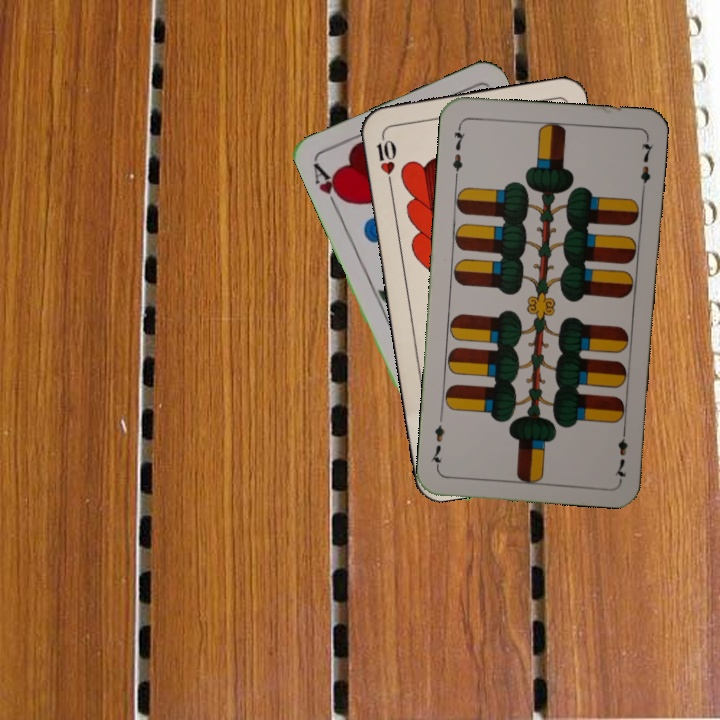E7: (448, 121, 468, 180), (611, 423, 631, 482)
H10: (372, 130, 399, 189)
HA: (309, 159, 350, 215)
